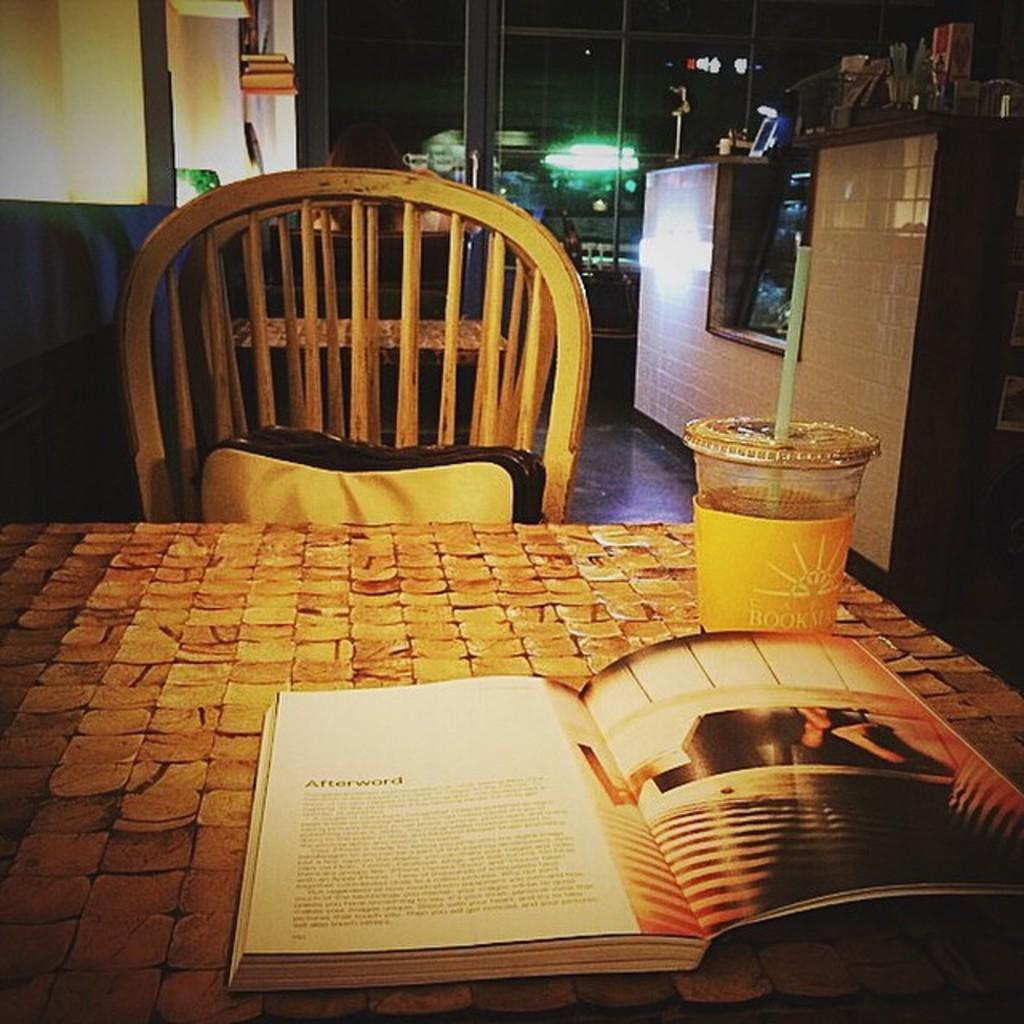Book: (219, 635, 1022, 998)
